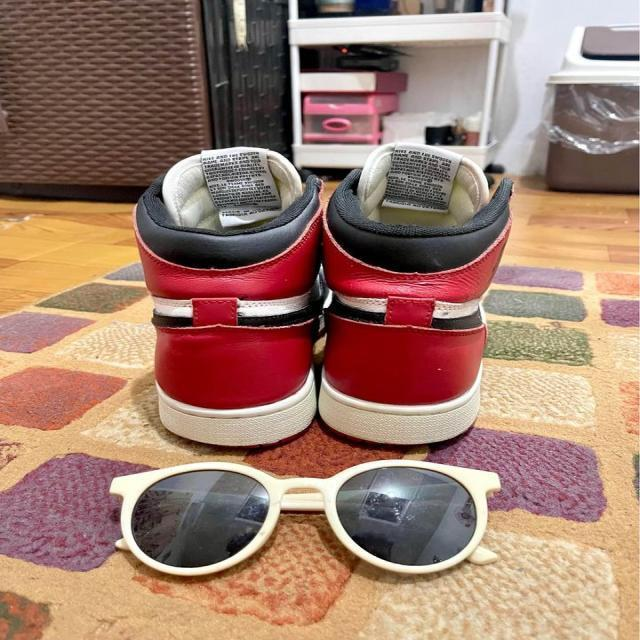nike fake jordan 1: (316, 145, 522, 447), (136, 144, 332, 453)
